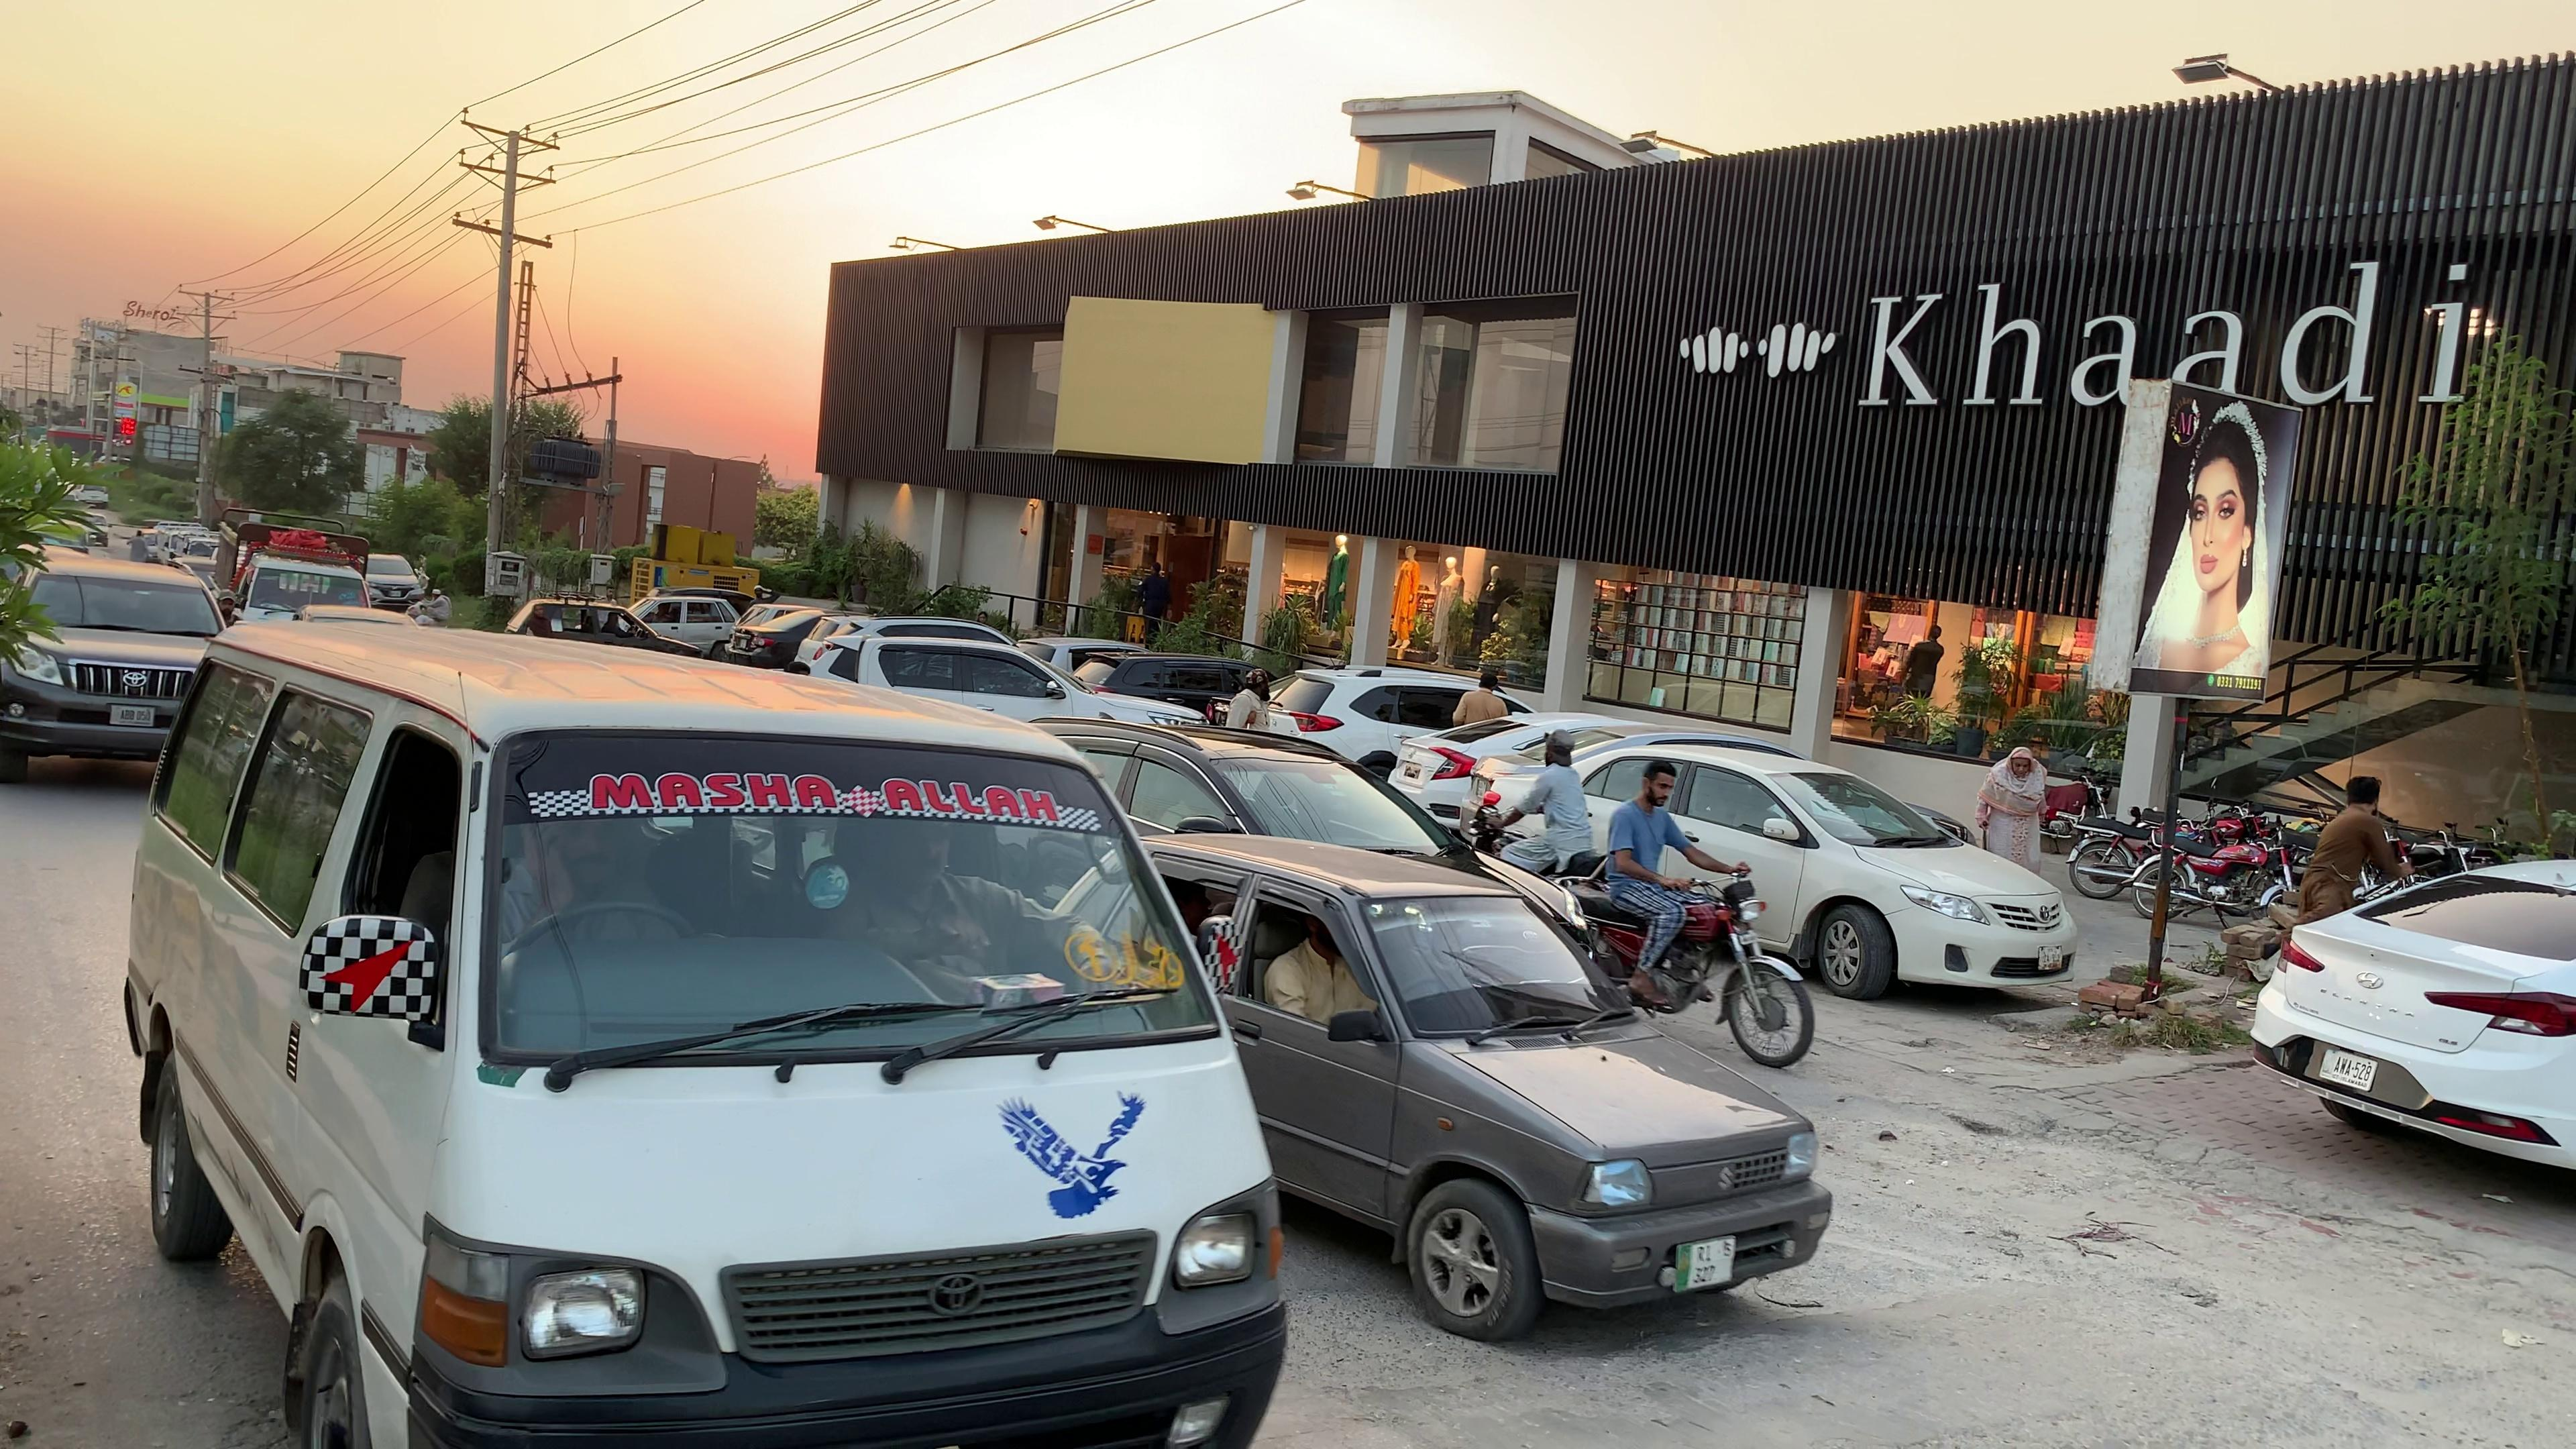windshield: (481, 738, 1221, 1104), (1355, 883, 1654, 1053)
